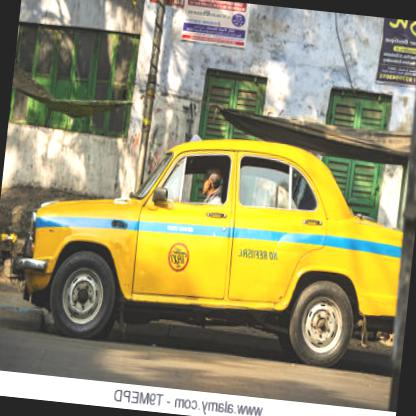car: (16, 118, 410, 367)
